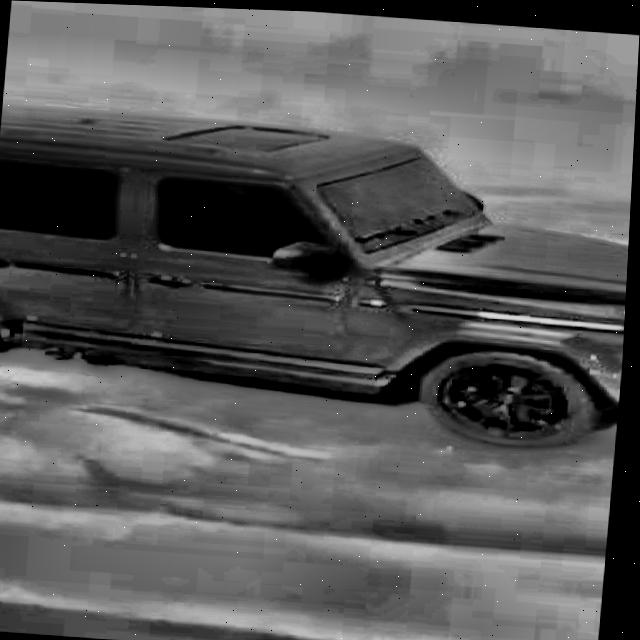light_vehicle: (0, 106, 636, 460)
